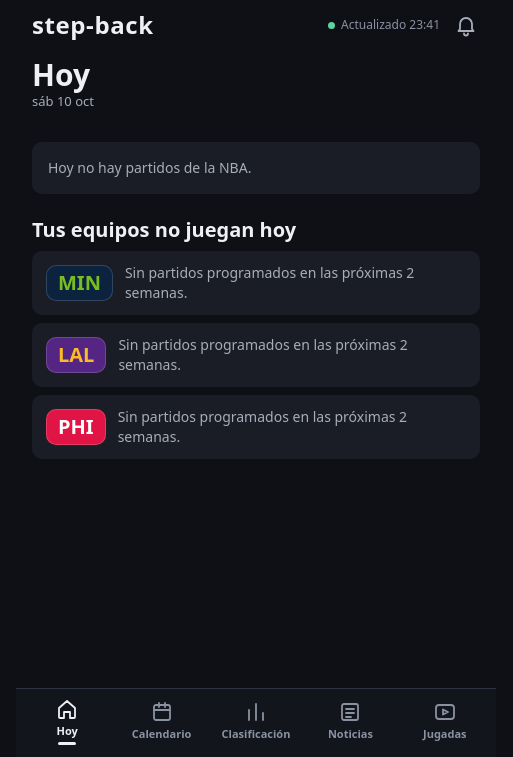
Scenario: navigation › marks the current tab and moves to another screen when it is tapped
Click the link "Noticias" at (350,721), box [328,700,373,741]
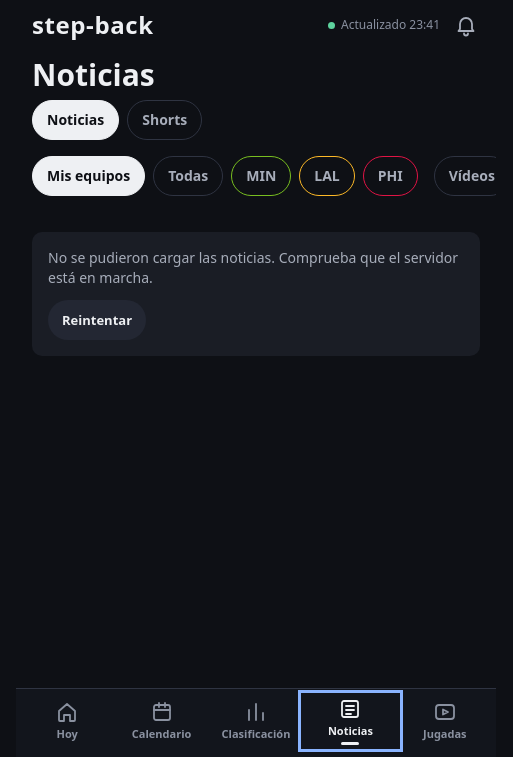
Result: the heading "Noticias" is shown at [32,54,155,95]
